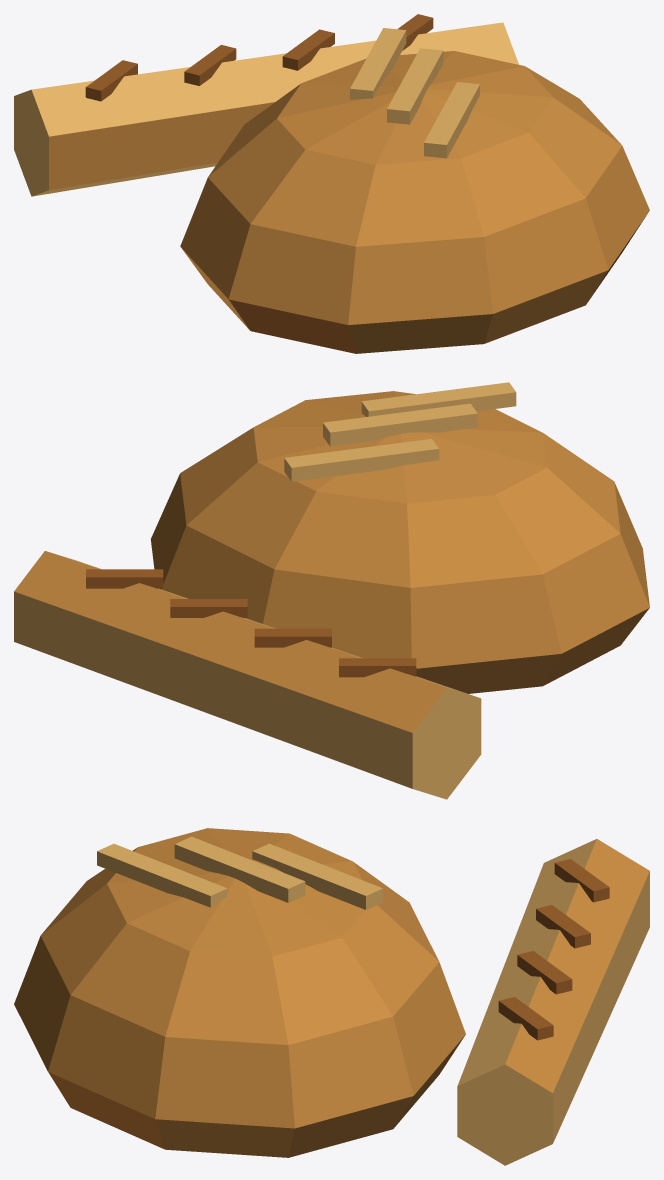
File: bread.glb
The picture shows the model from 3 angles, top to bottom: view 1: azimuth 30°, elevation 25°; view 2: azimuth 150°, elevation 25°; view 3: azimuth 270°, elevation 25°; orthographic projection. The views are drawn at different scales.
Visible parts, largest first — view 1: bread; view 2: bread; view 3: bread.
Boxes of the visible parts, bbox=[...] form: bread: bbox=[14, 14, 649, 353]; bread: bbox=[14, 382, 649, 799]; bread: bbox=[14, 828, 649, 1165].
Size of the model in its own units: 0.3463 by 0.141 by 0.409.
1 material, 1 textured.
